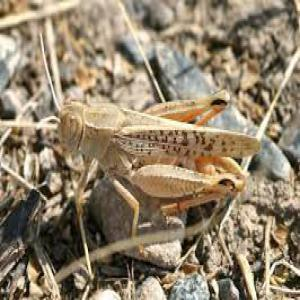locust: (40, 73, 264, 203)
